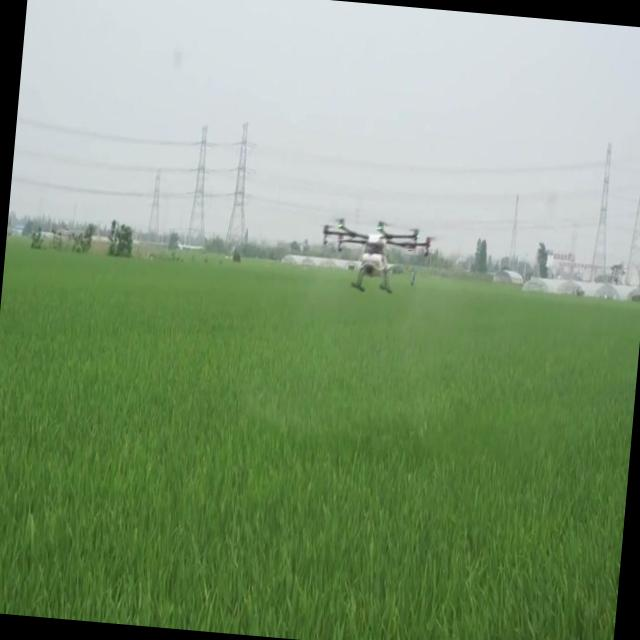drone: (314, 210, 437, 302)
